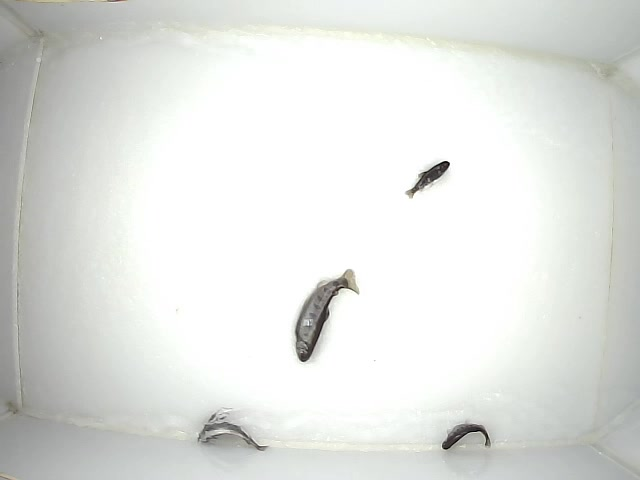fish: (292, 267, 359, 363), (194, 418, 270, 451), (403, 159, 450, 200), (440, 421, 495, 452)
